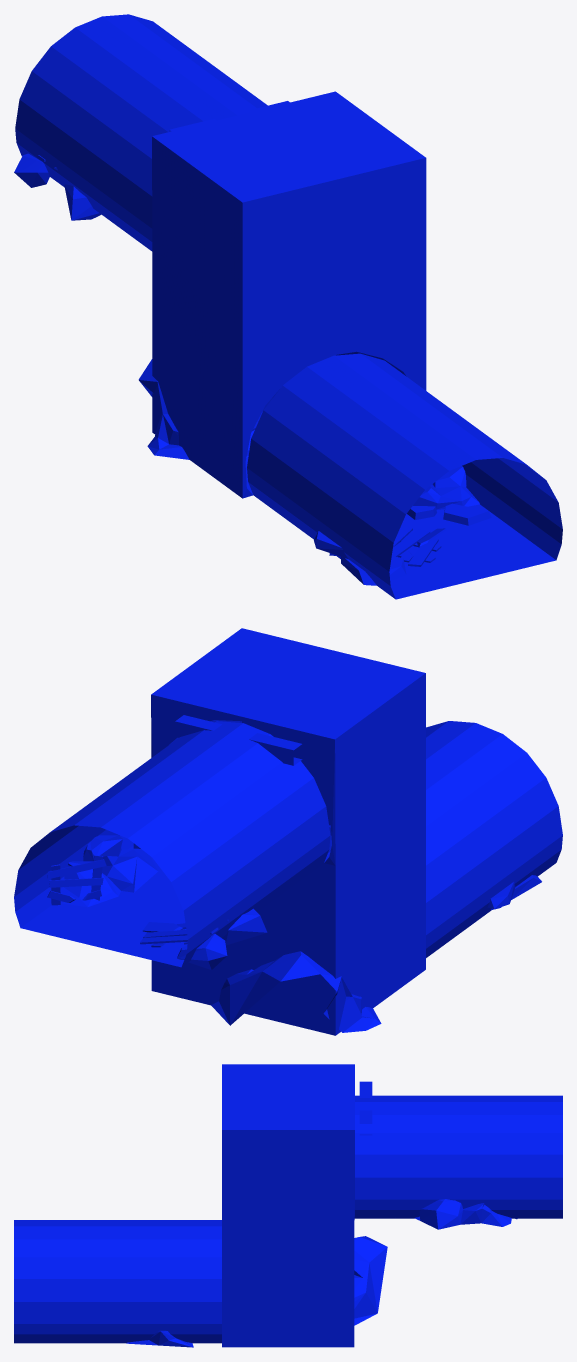
File: VerticalShaft_Collider.DAE
3 views of the same model, one above another, from view 1: azimuth 30°, elevation 25°; view 2: azimuth 150°, elevation 25°; view 3: azimuth 270°, elevation 25° (orthographic). The views are drawn at different scales.
Visible parts, largest first — view 1: VerticalShaft_Collider; view 2: VerticalShaft_Collider; view 3: VerticalShaft_Collider.
Part boxes in pixels (x1=…): VerticalShaft_Collider: x1=14, y1=14, x2=562, y2=599; VerticalShaft_Collider: x1=14, y1=628, x2=562, y2=1035; VerticalShaft_Collider: x1=14, y1=1064, x2=562, y2=1347.
Bounding box in the file's own units: 700 × 2000 × 873.
